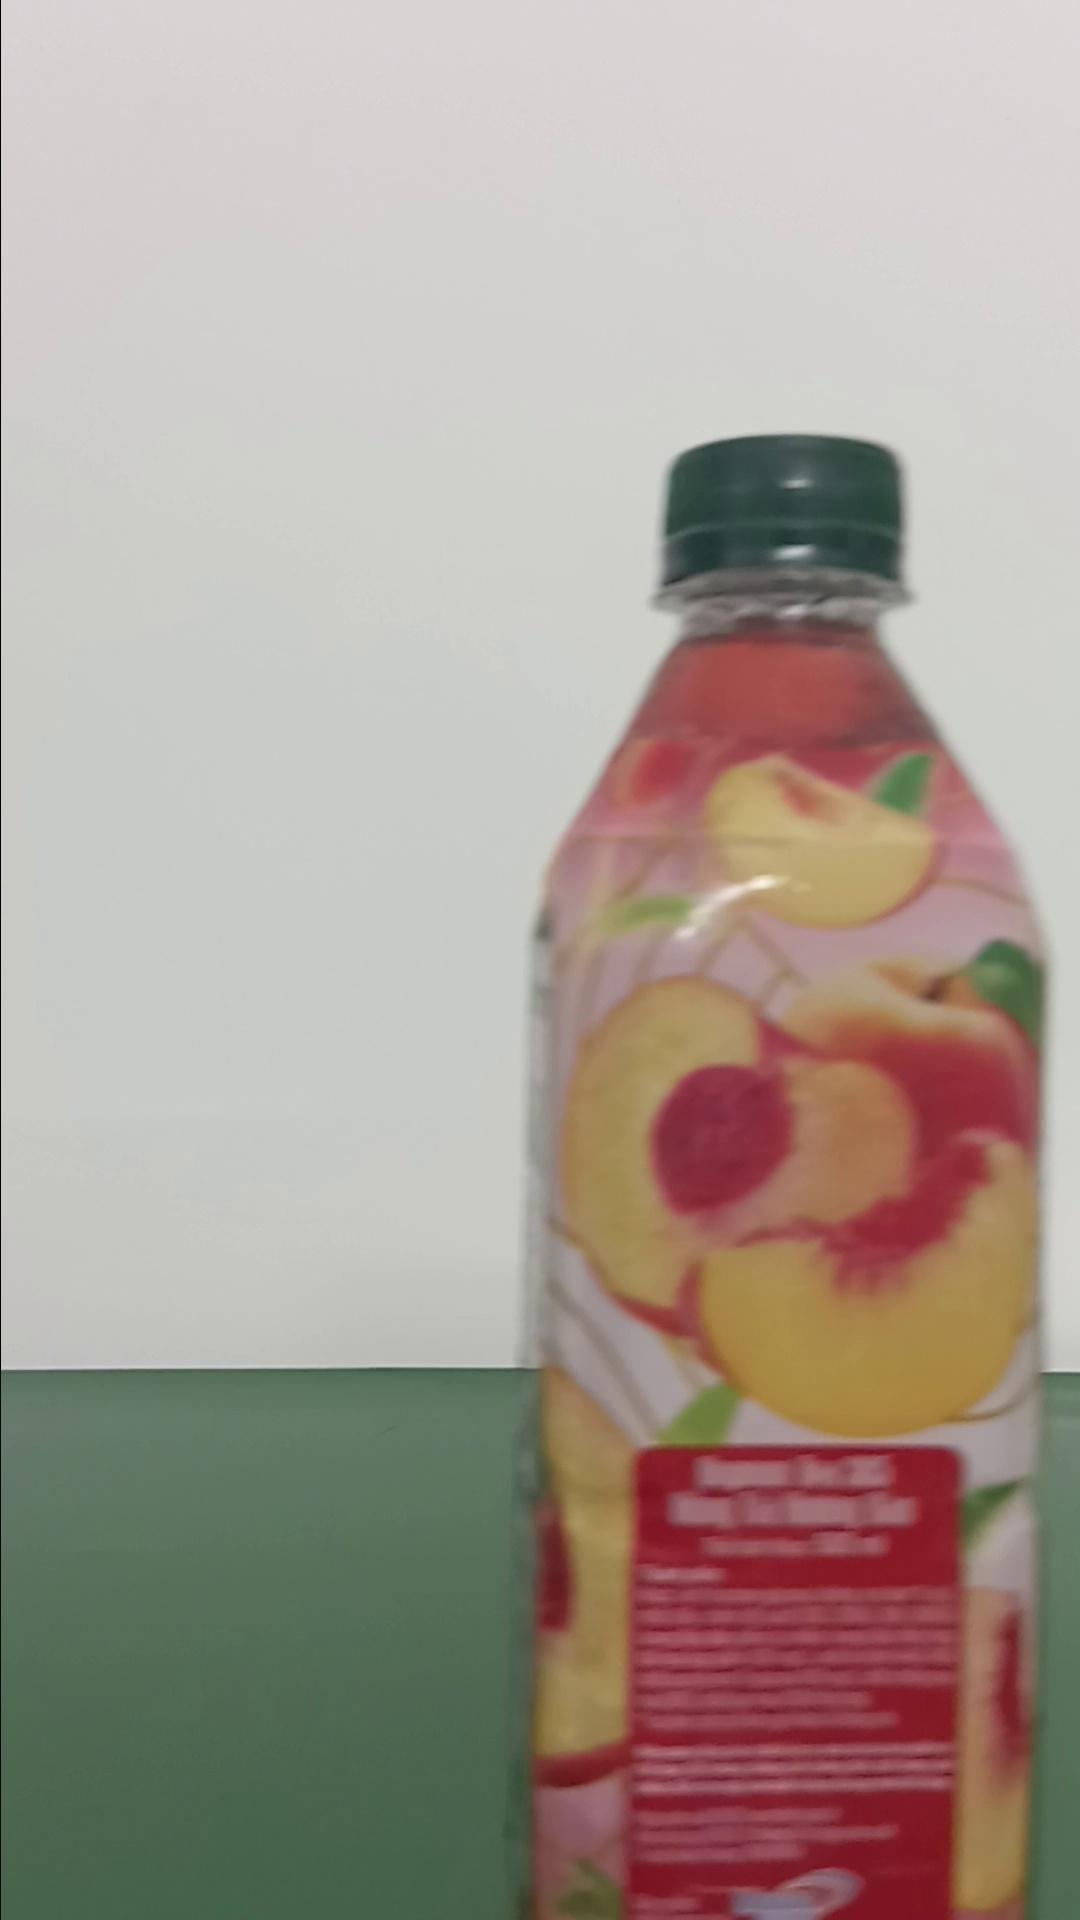khong loi: (520, 430, 1048, 1913)
